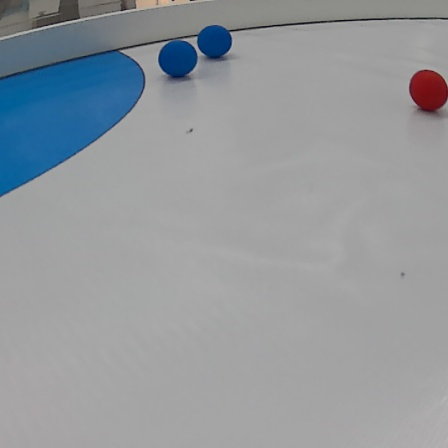blue: (158, 40, 198, 78), (197, 26, 232, 62)
blue_base: (0, 47, 146, 190)
red: (408, 68, 447, 111)
